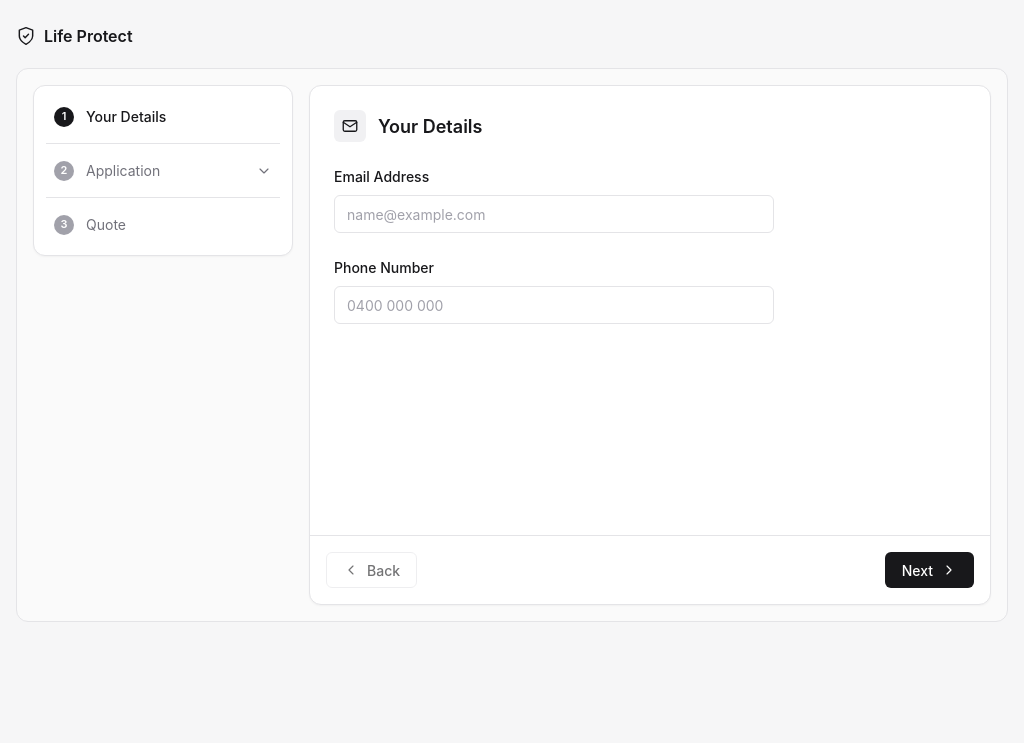
Test: insurance application journey › returns a quote for a non-smoker
Expected: the heading "Your Details" is shown, [378,112,482,140]
Type "jane@example.com" into the field labelled "Email Address".
click(554, 214); type("jane@example.com")  # box [334,195,774,233]
Type "0400 123 456" into the field labelled "Phone Number".
click(554, 305); type("0400 123 456")  # box [334,286,774,324]
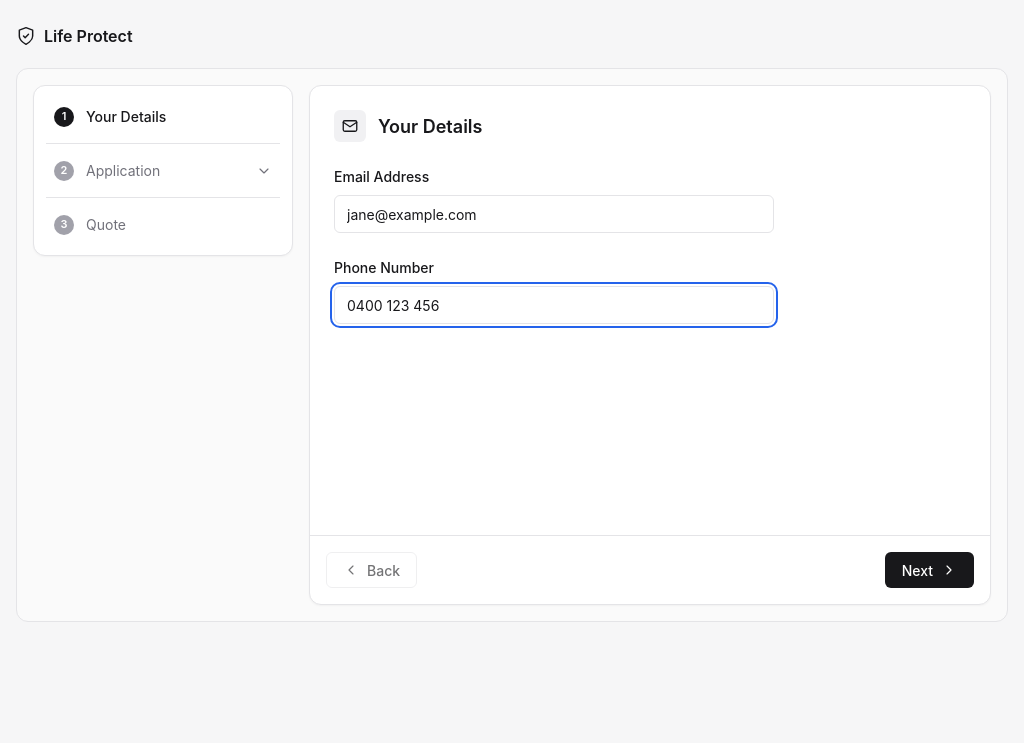
Click the button "Next".
click(929, 570)  # box [885,552,974,588]
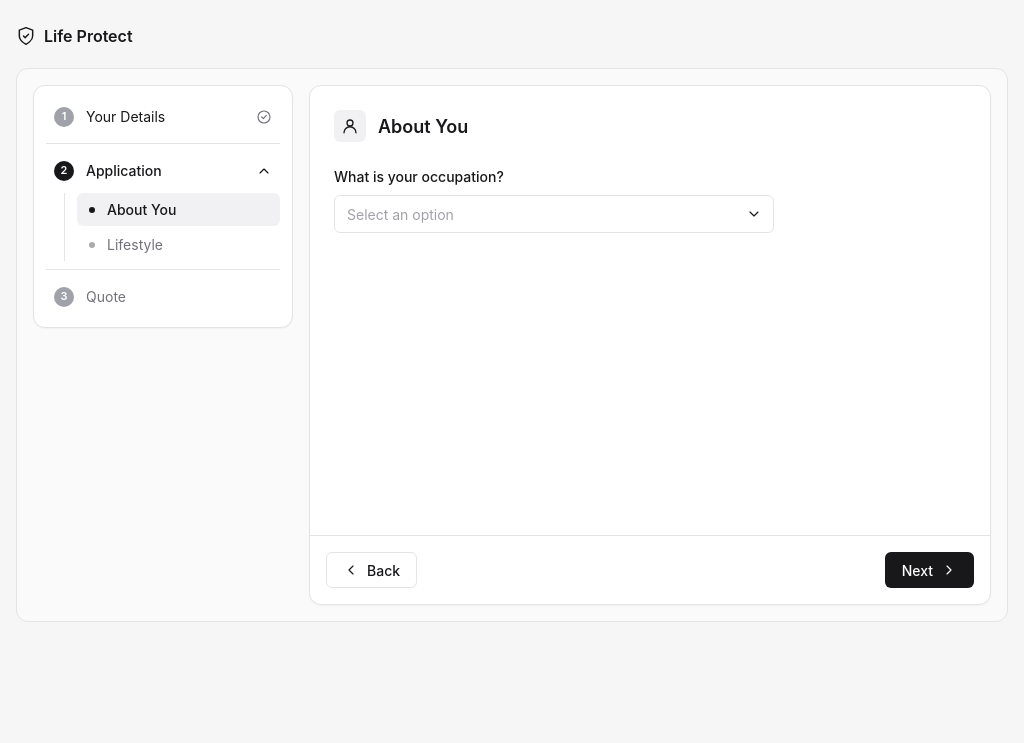
Expected: the heading "About You" is shown, [378,112,468,140]
Select "Office / Professional" in the dropdown labelled "What is your occupation?" at (554, 214), box [334,195,774,233]
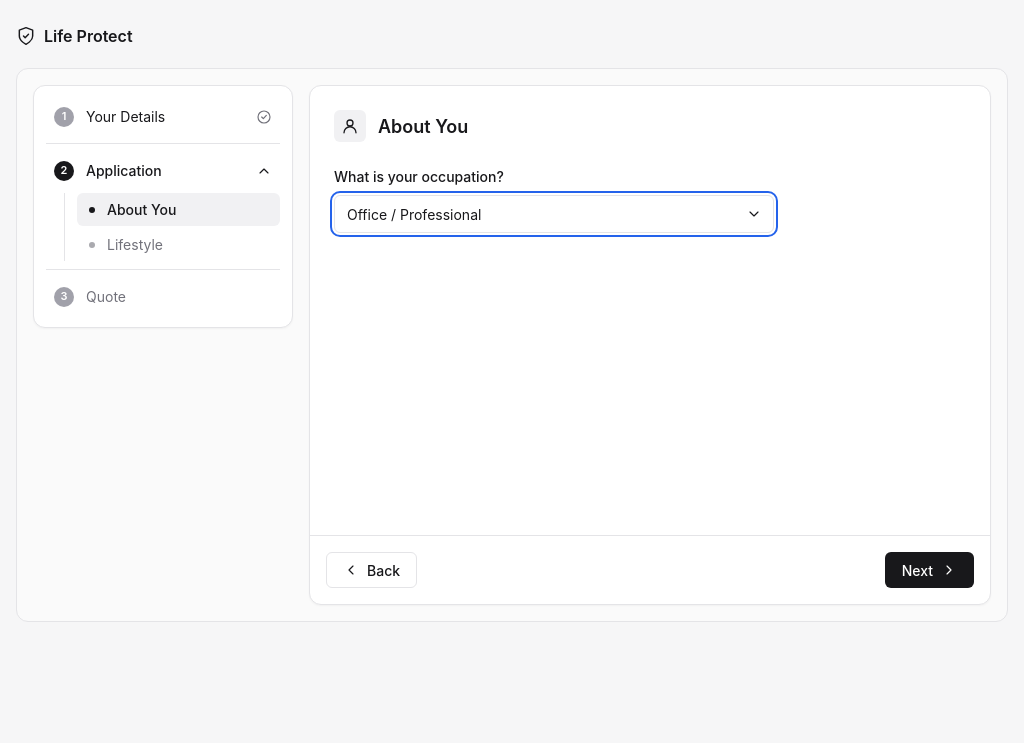
Click the button "Next".
click(929, 570)  # box [885,552,974,588]
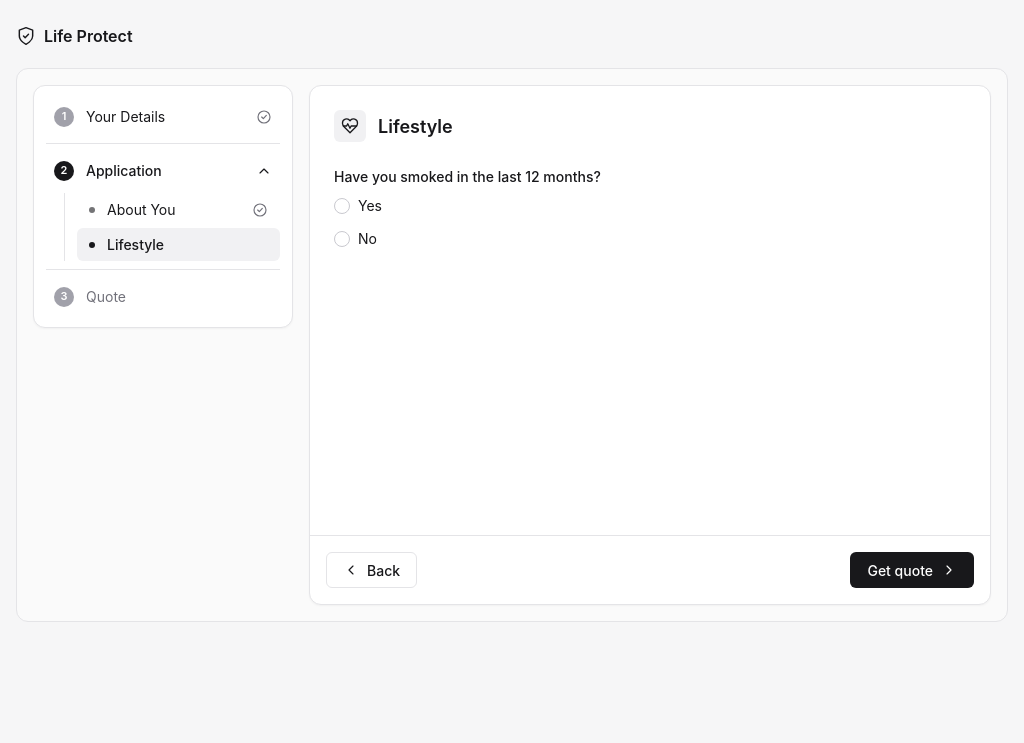
Expected: the heading "Lifestyle" is shown, [378,112,453,140]
Click the radio button labelled "No".
click(342, 238)  # box [334,230,350,246]
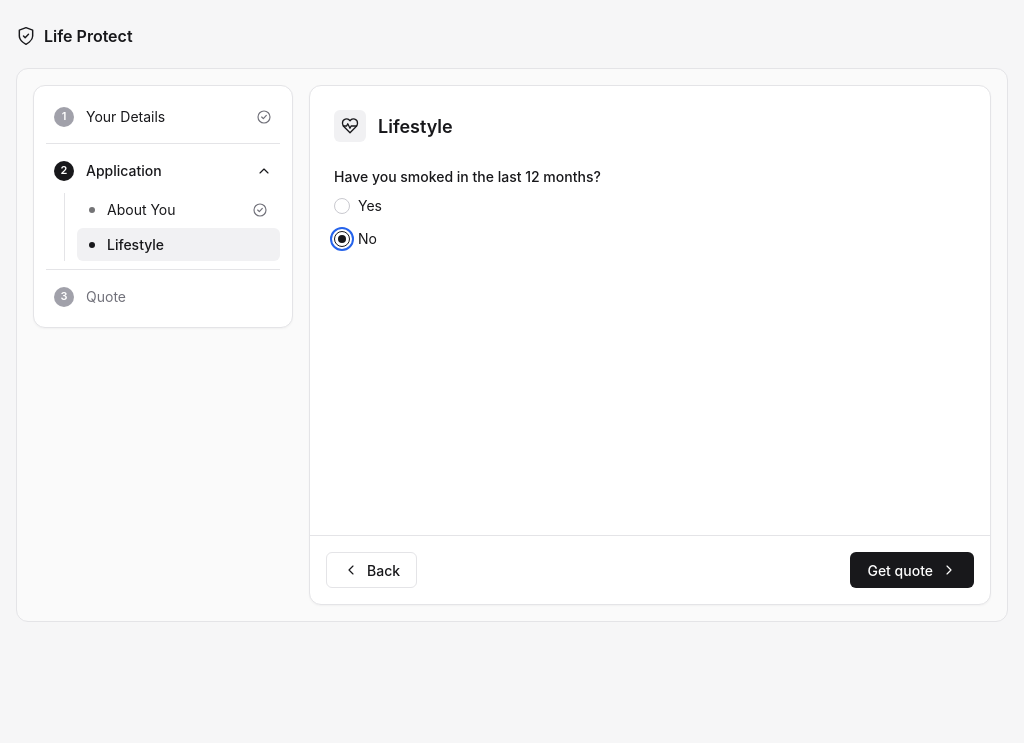
Click the button "Get quote".
click(912, 570)  # box [850,552,974,588]
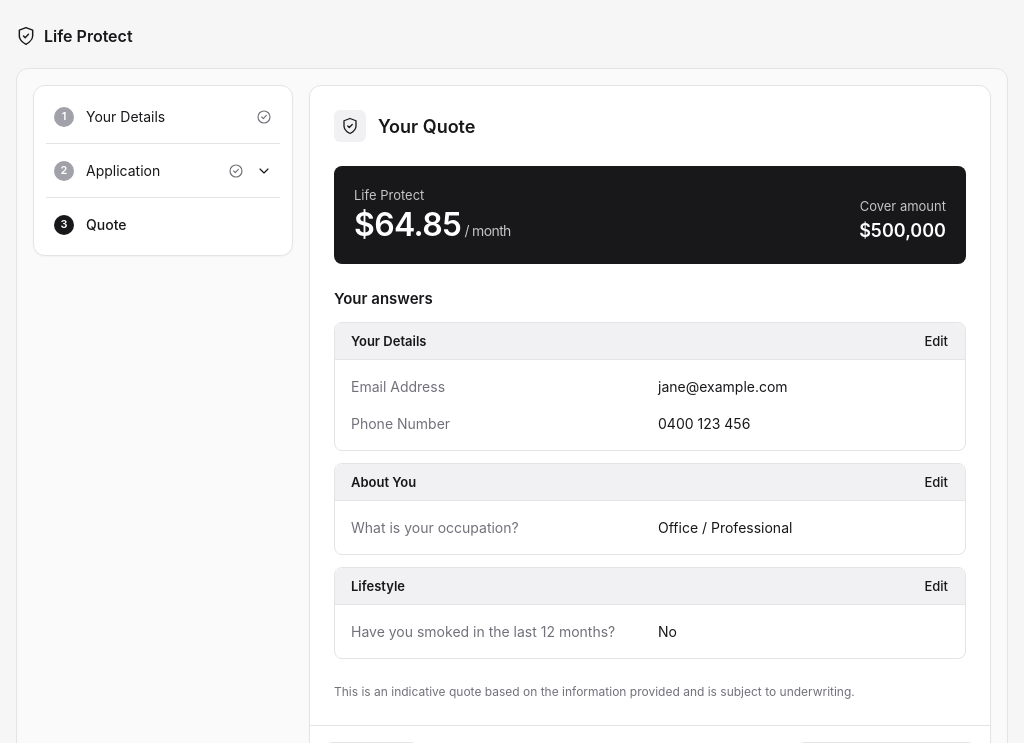
Expected: the heading "Your Quote" is shown, [378,112,476,140]
Expected: the element with test id "quote-premium" shows "$64.85", [354,204,461,244]
Expected: the text "$500,000" is shown, [859,217,946,244]
